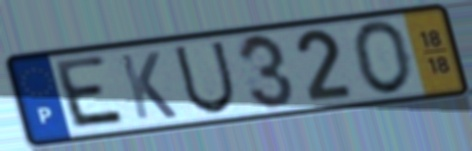2: (298, 26, 359, 107)
3: (235, 31, 297, 113)
E: (52, 53, 130, 132)
K: (116, 49, 181, 122)
O: (350, 18, 415, 97)
U: (171, 39, 239, 117)
